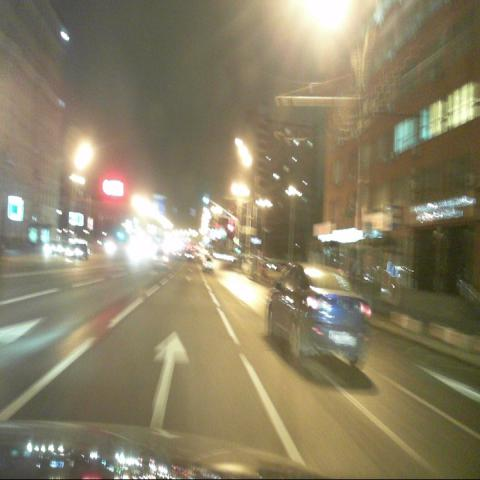5_16: (391, 204, 402, 230)
